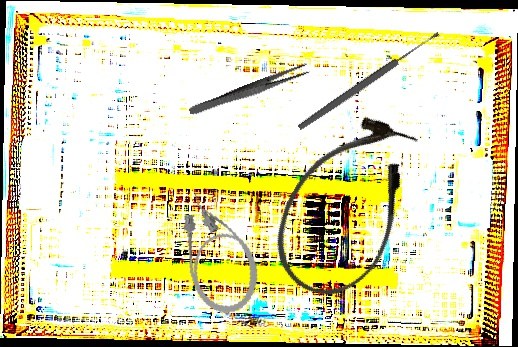Cannula: (253, 97, 441, 316), (172, 183, 266, 320)
Dressing Forceps: (187, 61, 312, 120)
Surgical Spoon: (296, 29, 442, 133)
